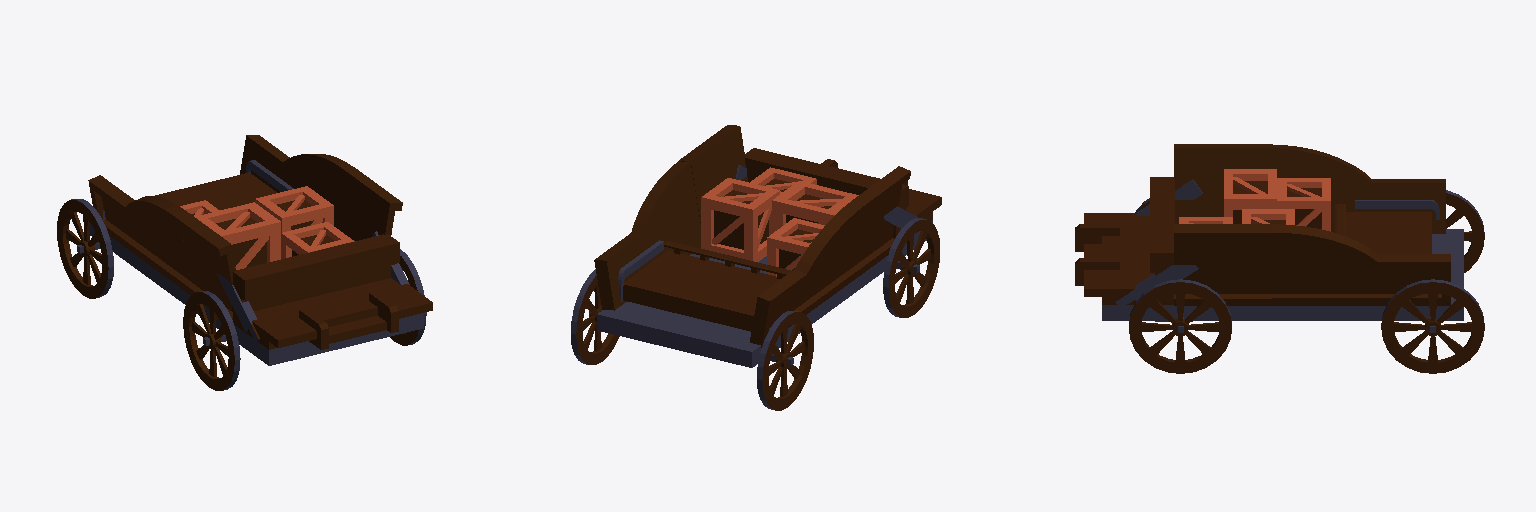
Rendered from Wagon.obj.
The picture shows the model from 3 angles: view 1: azimuth 30°, elevation 25°; view 2: azimuth 150°, elevation 25°; view 3: azimuth 270°, elevation 25°; orthographic projection.
Parts seen in each view (by area): view 1: porch_floor, sign_side, detail_wagonWheel, porch_floorSteps, detail_crate, sign_center, porch_floorCenter, detail_fence_side; view 2: sign_side, porch_floor, detail_crate, detail_wagonWheel, porch_floorCenter, sign_center, detail_ladder, porch_floorSteps, detail_fence_side; view 3: sign_side, detail_wagonWheel, sign_center, porch_floor, porch_floorSteps, detail_crate, porch_floorCenter, detail_fence_side.
Part boxes in pixels (x1,y1,x2,y2): porch_floor: (155, 173, 409, 342); sign_side: (88, 135, 352, 290); detail_wagonWheel: (57, 199, 426, 390); porch_floorSteps: (233, 278, 432, 349); detail_crate: (180, 186, 354, 269); sign_center: (173, 167, 402, 319); porch_floorCenter: (90, 223, 423, 365); detail_fence_side: (103, 160, 293, 220); sign_side: (594, 161, 864, 347); porch_floor: (623, 148, 917, 331); detail_crate: (701, 167, 858, 276); detail_wagonWheel: (571, 218, 939, 410); porch_floorCenter: (597, 220, 932, 367); sign_center: (679, 125, 910, 281); detail_ladder: (664, 241, 791, 278); porch_floorSteps: (821, 159, 941, 238); detail_fence_side: (618, 240, 663, 301); sign_side: (1267, 144, 1450, 305); detail_wagonWheel: (1129, 190, 1484, 373); sign_center: (1174, 144, 1271, 305); porch_floor: (1115, 177, 1431, 308); porch_floorSteps: (1075, 213, 1173, 304); detail_crate: (1179, 169, 1330, 231); porch_floorCenter: (1102, 229, 1463, 320); detail_fence_side: (1355, 200, 1439, 219).
Size of the model in its own units: 1.3 by 0.8828 by 2.29.